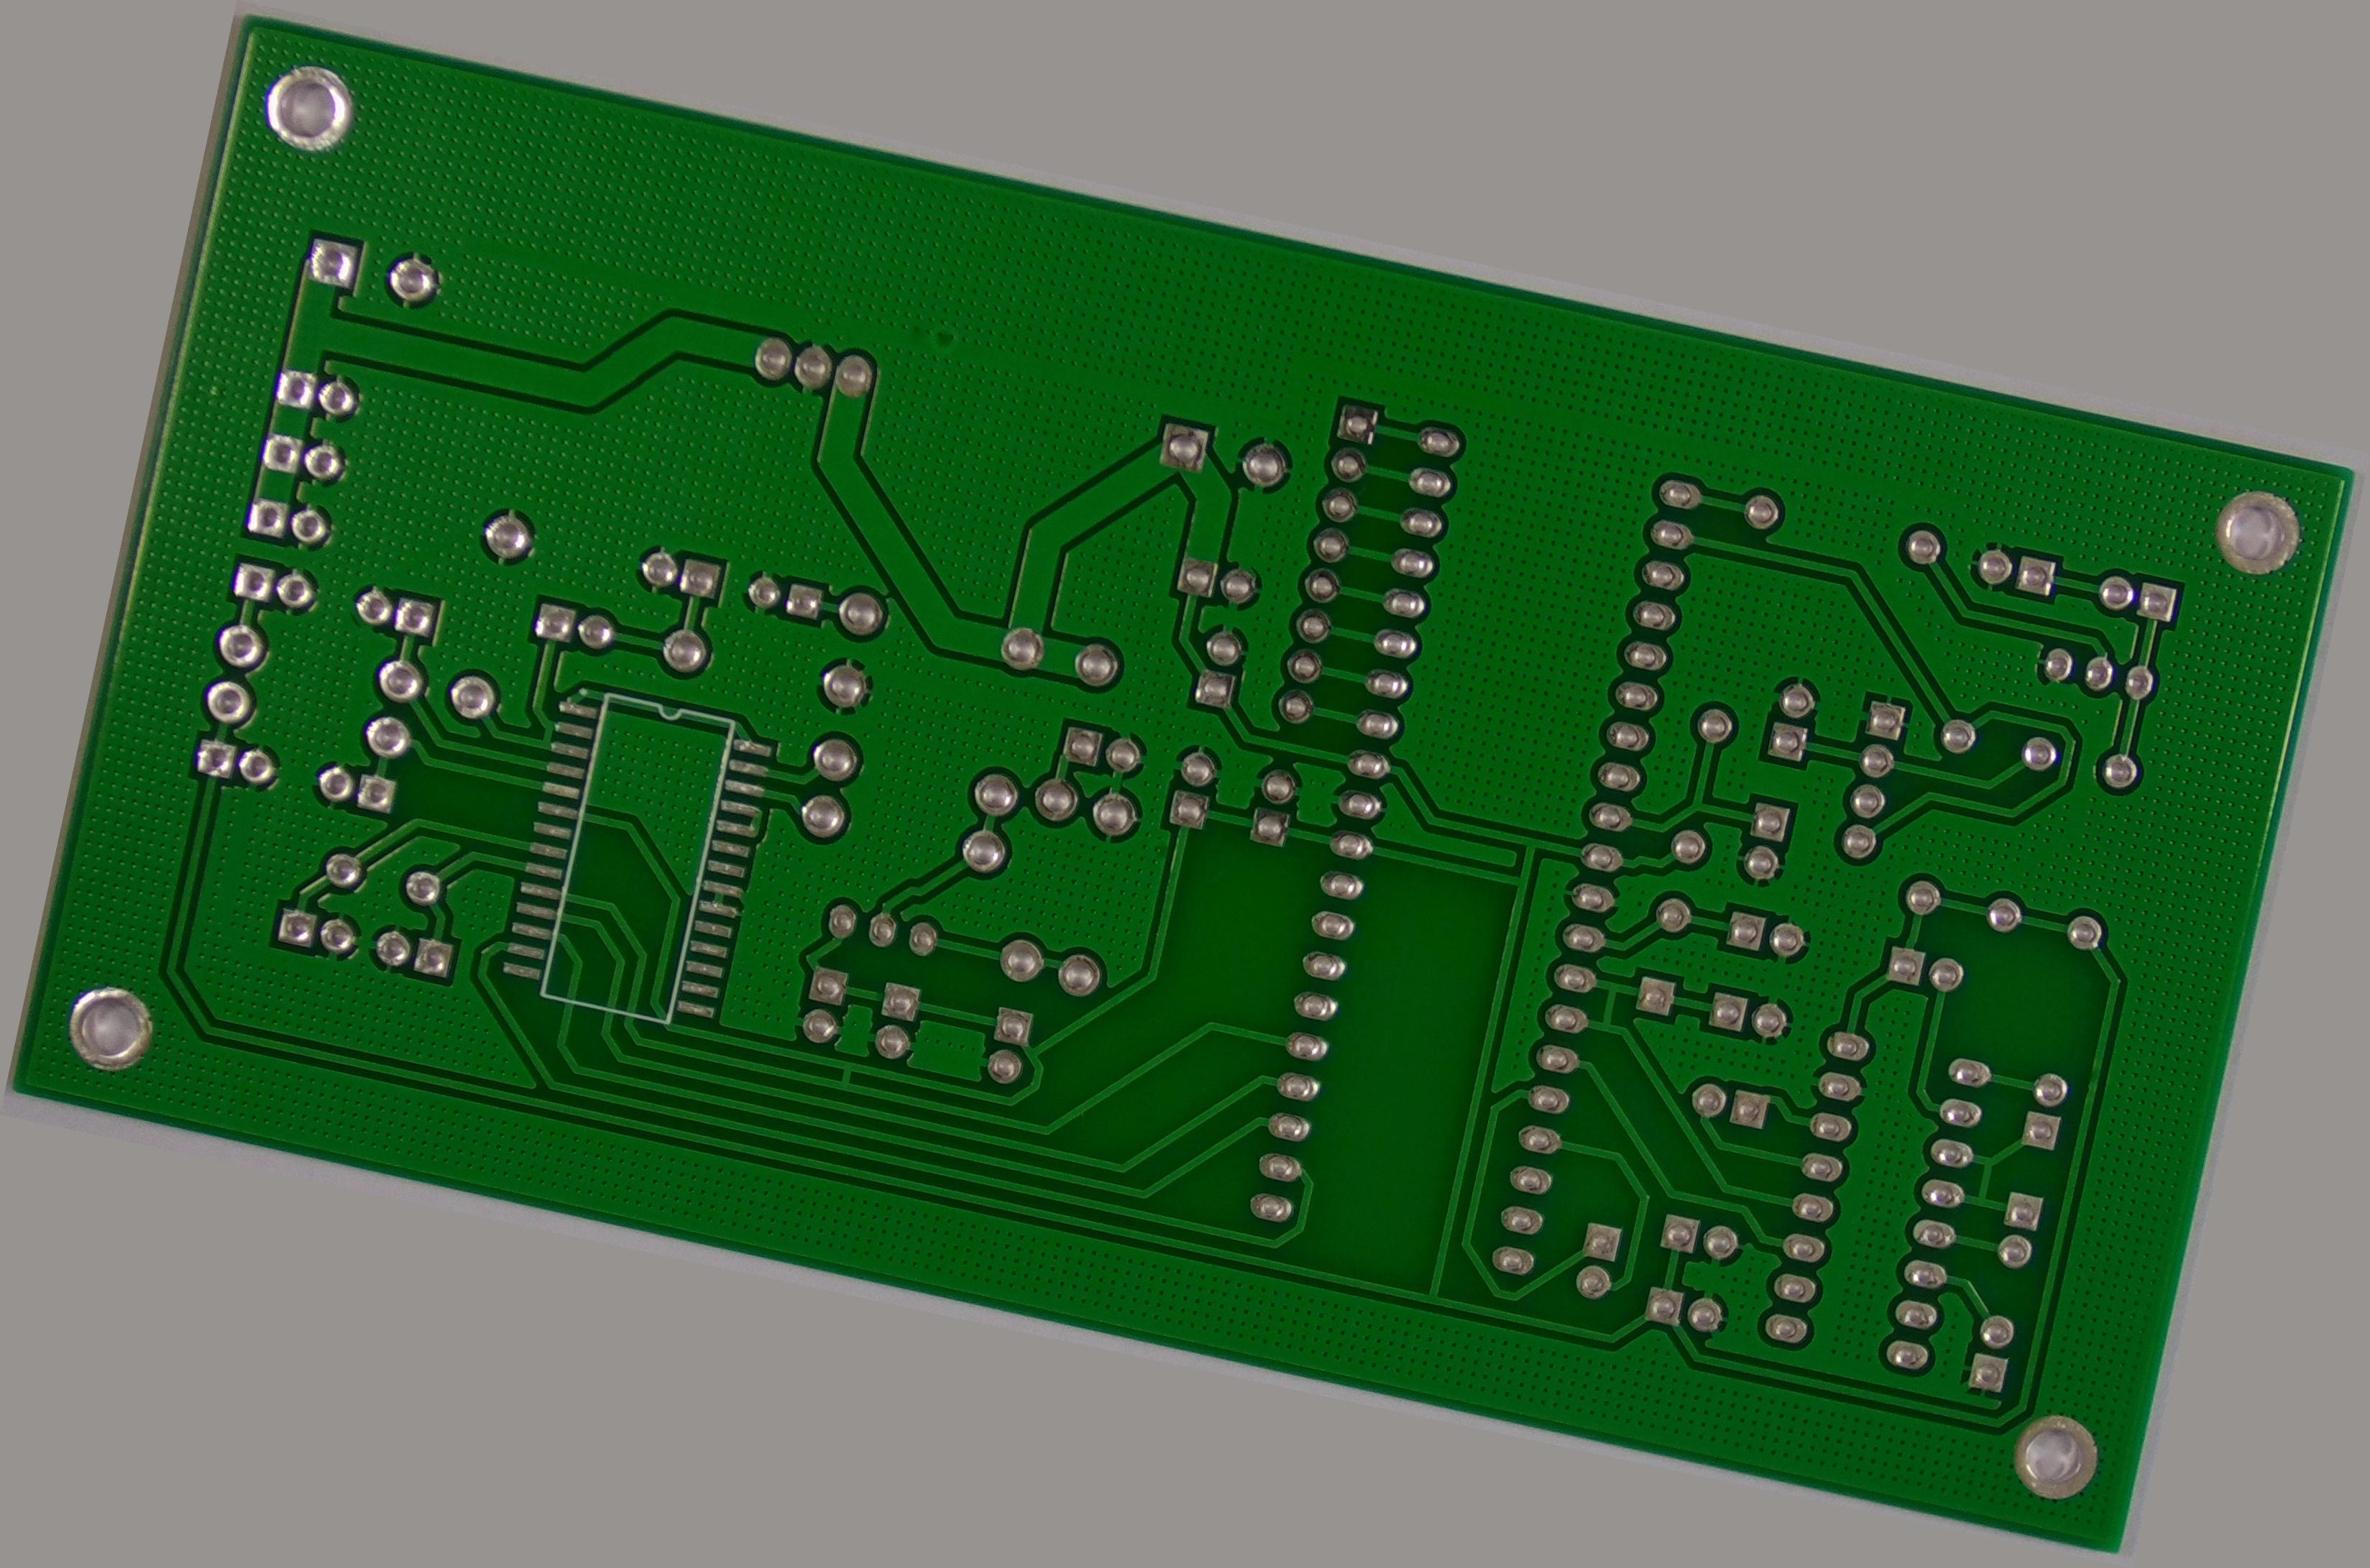short: (1574, 968, 1649, 1050), (1948, 1146, 2020, 1218), (816, 1045, 870, 1101), (530, 712, 567, 752)
